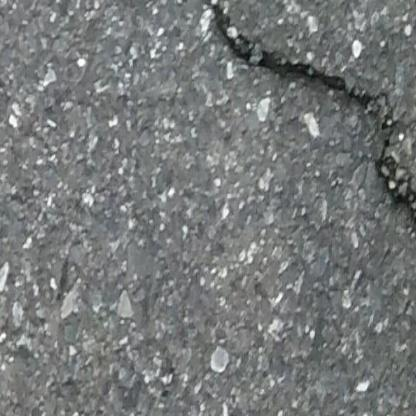Cracks: (197, 0, 416, 237)
